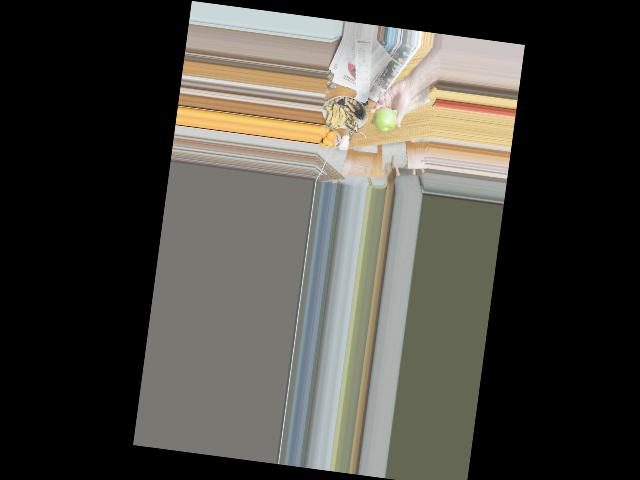apple: (374, 105, 397, 132)
